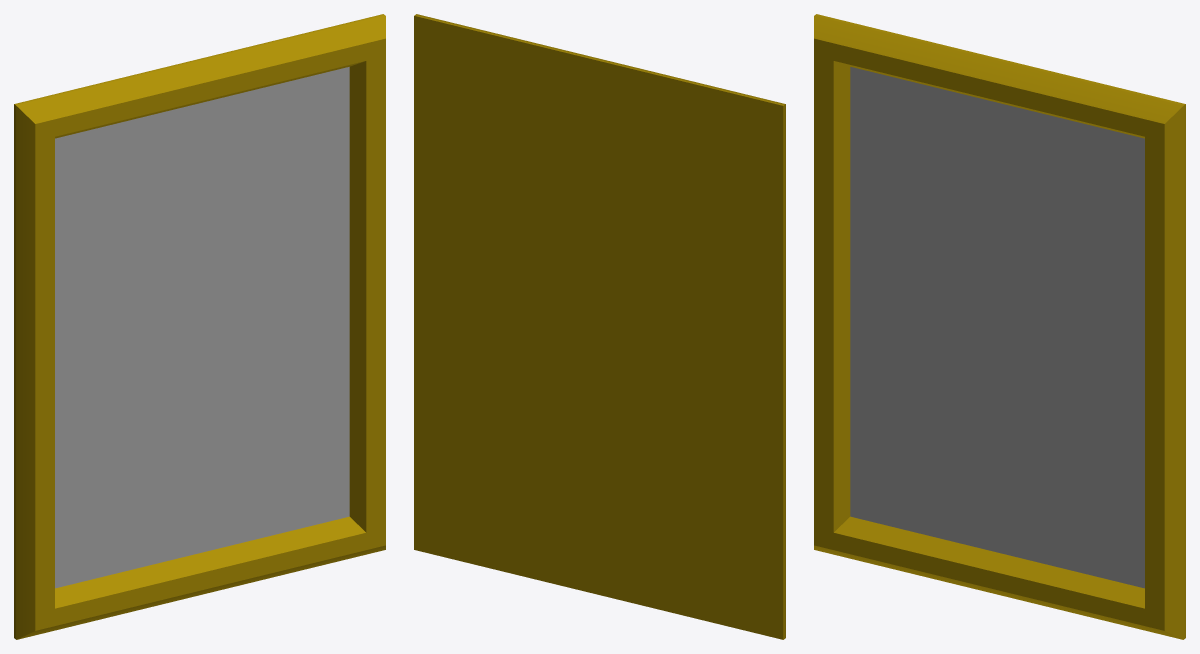
The model's file is Painting_Mod.fbx.
3 renders of one model, left to right at view 1: azimuth 30°, elevation 25°; view 2: azimuth 150°, elevation 25°; view 3: azimuth 330°, elevation 25°, orthographic.
Visible parts, largest first — view 1: Painting; view 2: Painting; view 3: Painting.
Boxes of the visible parts, left/top/right/bottom form: Painting: left=14, top=14, right=385, bottom=639; Painting: left=414, top=14, right=785, bottom=639; Painting: left=814, top=14, right=1185, bottom=639.
Size of the model in its own units: 126 by 174 by 7.
